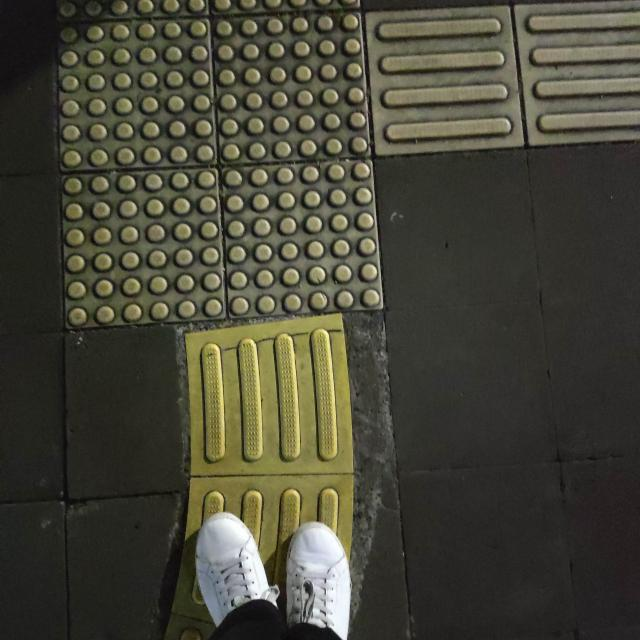kanan: (97, 0, 596, 408)
